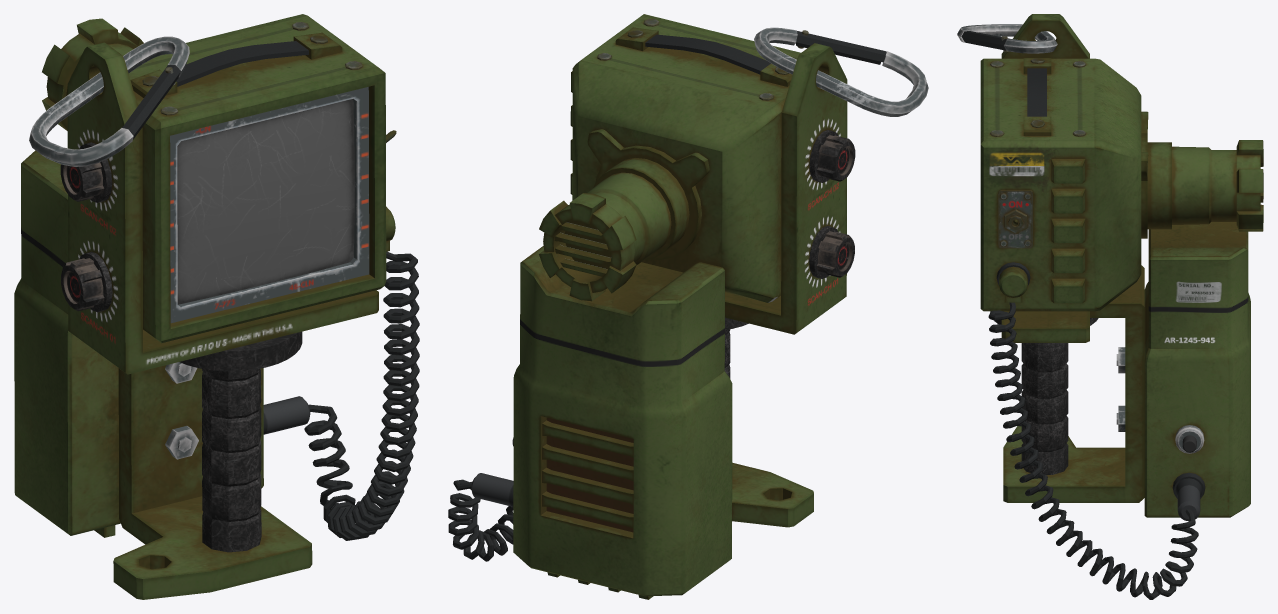
File: motion_tracker_showcase.obj
The picture shows the model from 3 angles, left to right: view 1: azimuth 30°, elevation 25°; view 2: azimuth 150°, elevation 25°; view 3: azimuth 270°, elevation 25°; orthographic projection. The views are drawn at different scales.
Parts seen in each view (by area): view 1: bezier_circle_003; view 2: bezier_circle_003; view 3: bezier_circle_003.
Part boxes in pixels (<box>): bezier_circle_003: <box>14,14,419,599</box>; bezier_circle_003: <box>448,14,928,599</box>; bezier_circle_003: <box>957,14,1263,599</box>.
Bounding box in the file's own units: 0.3153 × 0.4328 × 0.2578.
